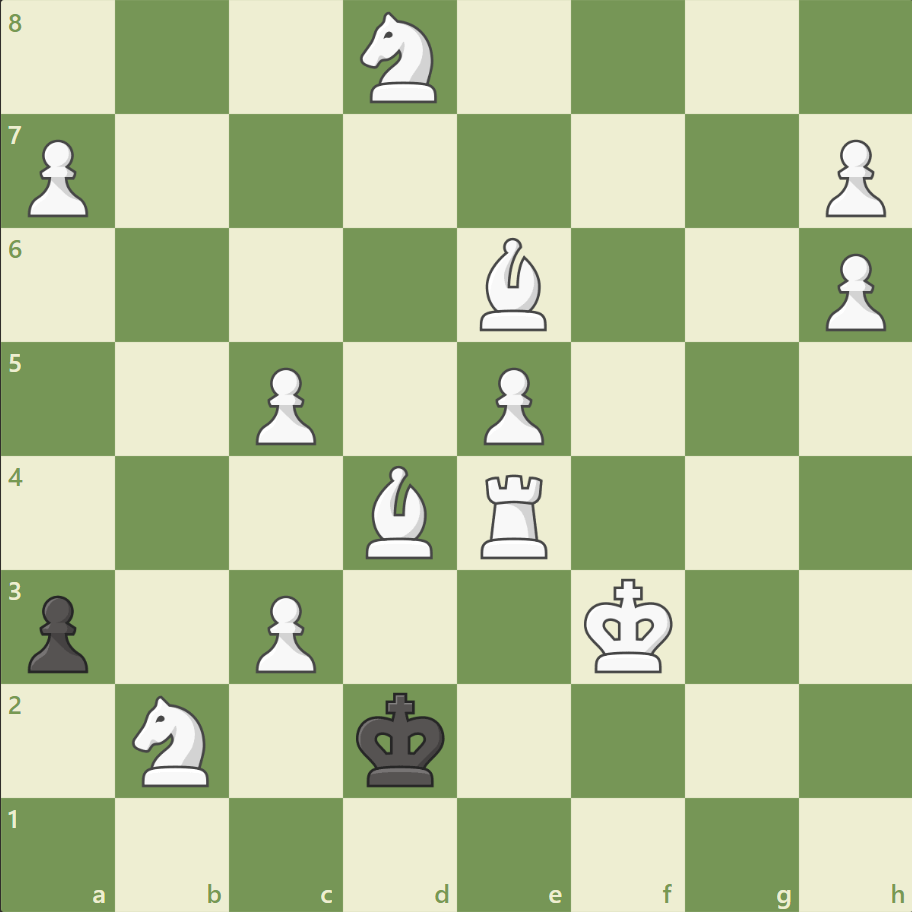B: (471, 233, 555, 336), (358, 460, 442, 563)
K: (579, 571, 679, 679)
N: (351, 7, 449, 110), (124, 688, 222, 791)
P: (20, 132, 95, 223), (247, 359, 322, 450), (474, 359, 549, 450), (247, 586, 322, 677), (815, 132, 889, 223), (815, 246, 889, 337)
R: (473, 466, 556, 563)
k: (351, 685, 451, 793)
p: (20, 586, 95, 677)
